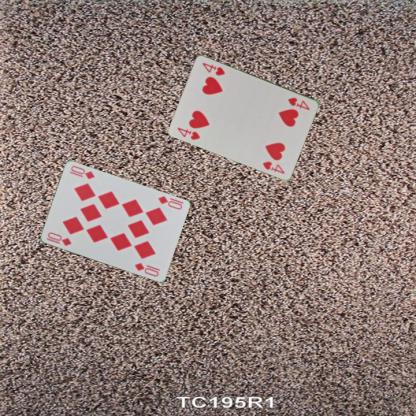10d: (155, 193, 183, 211), (45, 230, 72, 248)
4h: (285, 94, 311, 112), (175, 124, 202, 141)
